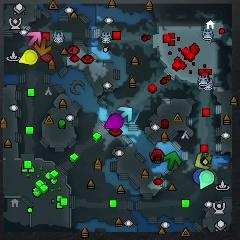p1: (193, 170, 205, 184)
p2: (199, 169, 214, 189)
p3: (105, 113, 123, 128)
p4: (18, 49, 38, 64)
x1: (26, 31, 43, 47)
x2: (195, 153, 213, 170)
x3: (117, 106, 133, 122)
x4: (164, 151, 182, 169)
x5: (34, 37, 52, 54)
